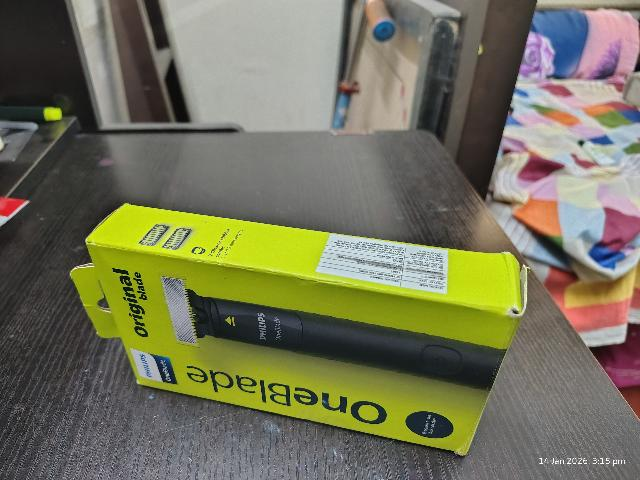phillips oneblade: (80, 236, 511, 451)
